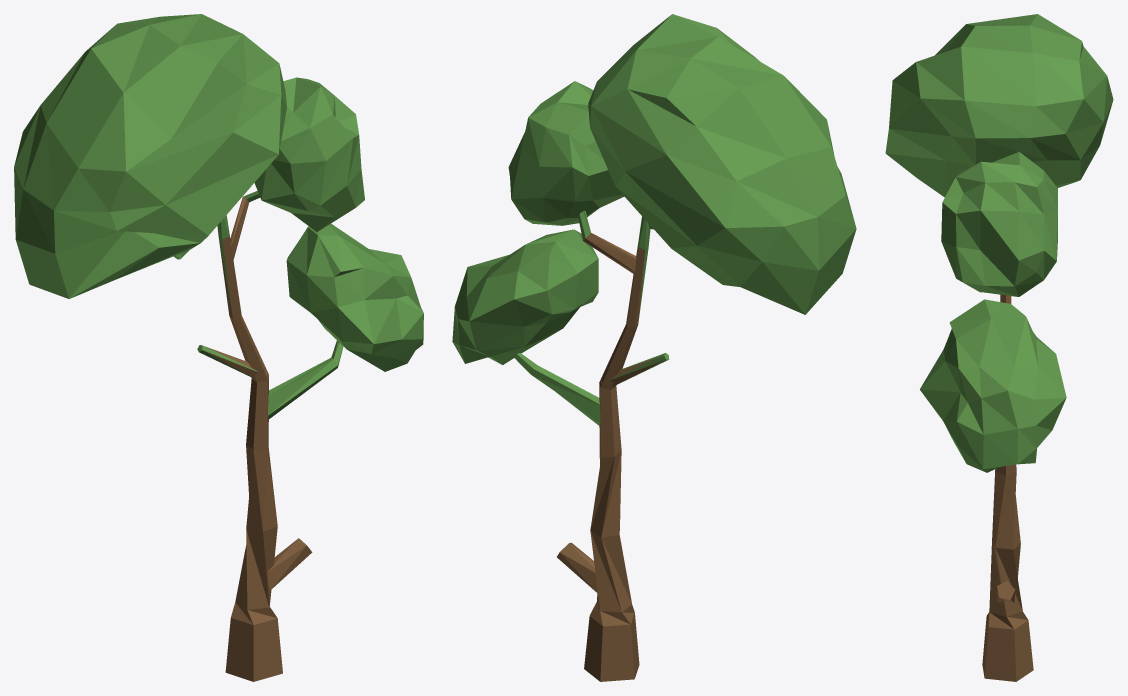
Rendered from tree3d-139.glb.
The picture shows the model from 3 angles, left to right: view 1: azimuth 30°, elevation 25°; view 2: azimuth 150°, elevation 25°; view 3: azimuth 270°, elevation 25°; orthographic projection. The views are drawn at different scales.
Visible parts, largest first — view 1: tree3d-139; view 2: tree3d-139; view 3: tree3d-139.
Boxes of the visible parts, <box> form: tree3d-139: <box>14,14,423,681</box>; tree3d-139: <box>452,14,856,681</box>; tree3d-139: <box>885,14,1113,681</box>.
Size of the model in its own units: 0.6052 by 1 by 0.3397.
